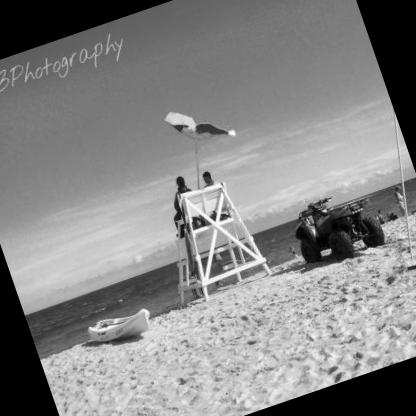moto: (263, 174, 402, 281)
